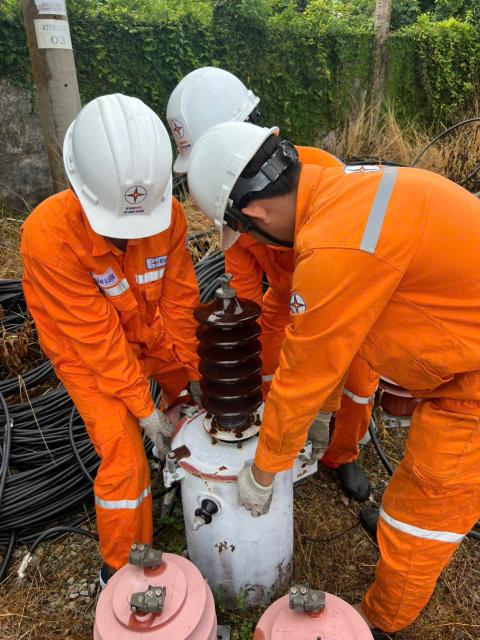gloves: (232, 450, 285, 522), (138, 408, 187, 464), (307, 407, 343, 466)
helmet: (51, 77, 181, 245), (175, 115, 286, 236), (141, 65, 287, 153)
shoes: (316, 452, 381, 504), (353, 497, 396, 544)
